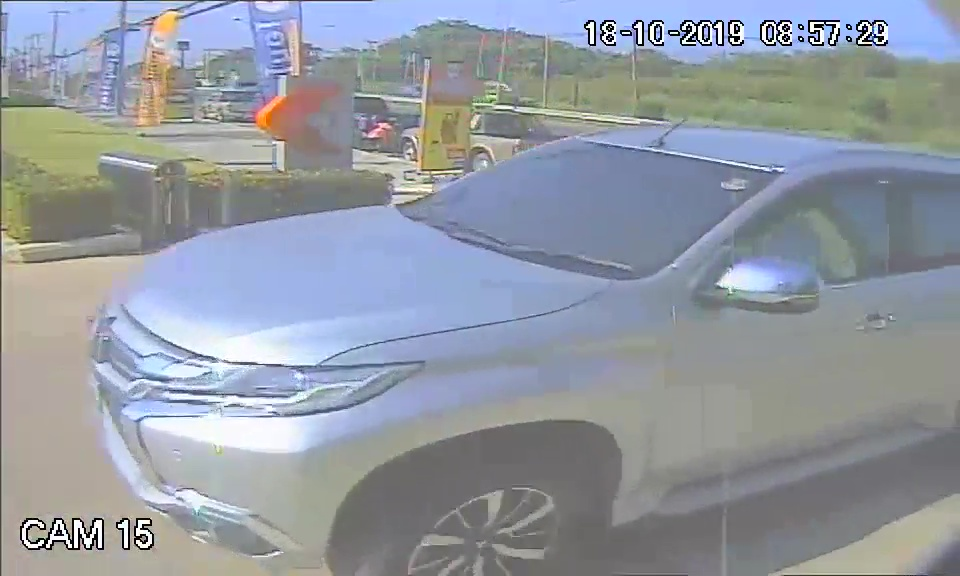pickup: (86, 123, 947, 566)
